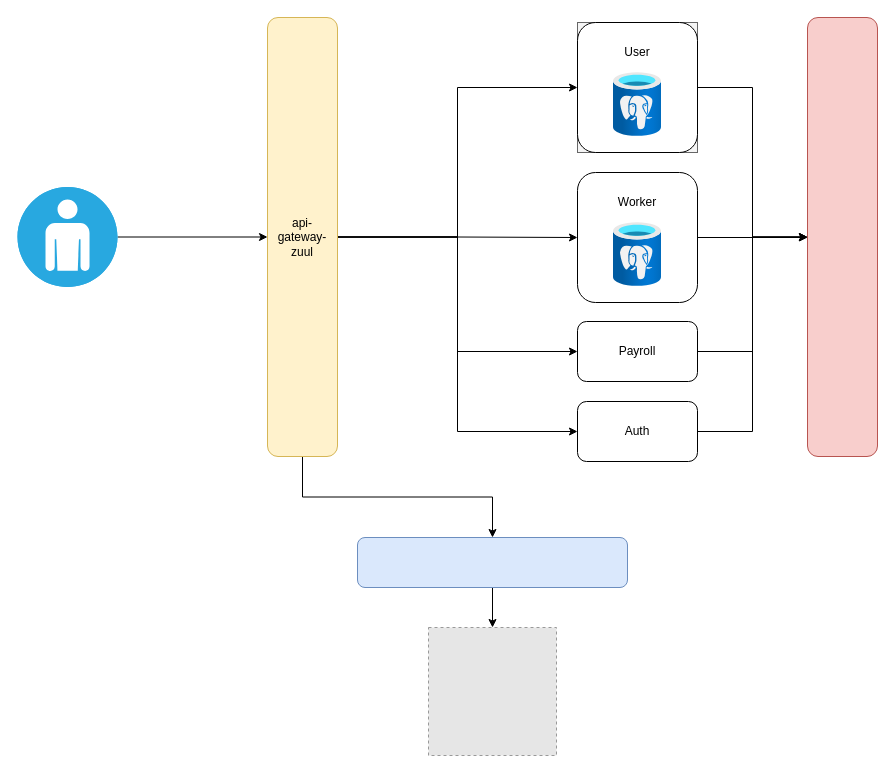
Image size: 895x773. Some labels were removed from this diagram. Grey dashed boxes stand in for pictures. The centre of each missing label's shape, as x and y in pixels:
Config Server: [492,562]
eureka-server: [842,236]
